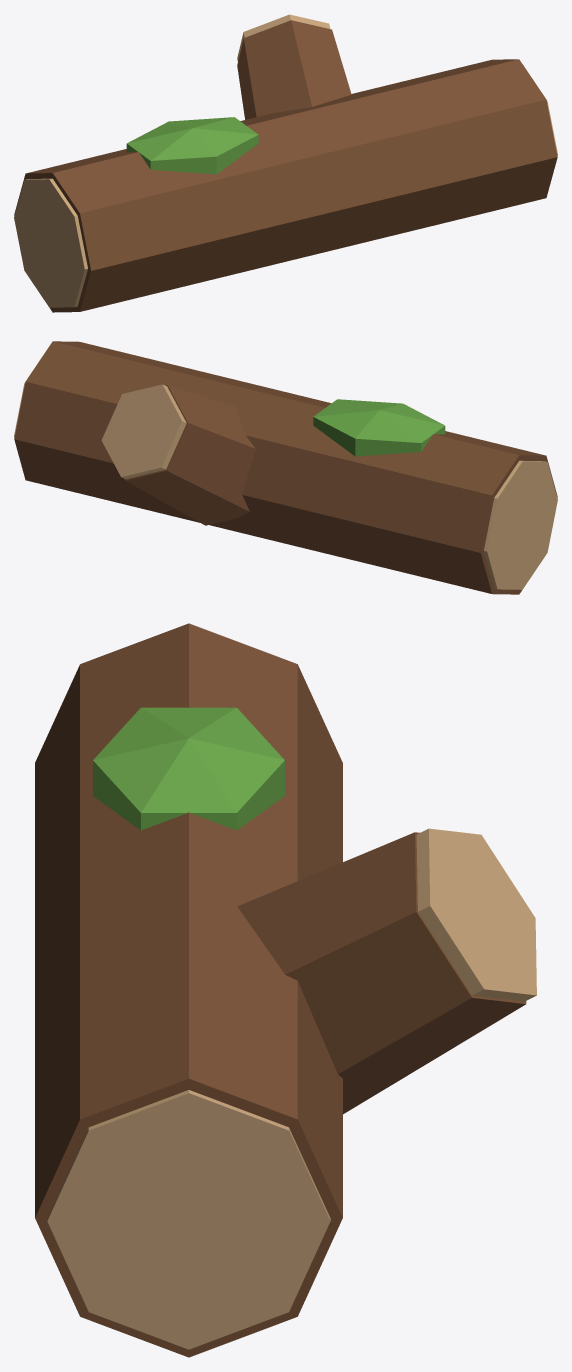
Rendered from wood_log_b.fbx.
3 views of the same model, one above another, from view 1: azimuth 30°, elevation 25°; view 2: azimuth 150°, elevation 25°; view 3: azimuth 270°, elevation 25° (orthographic). The views are drawn at different scales.
Visible parts, largest first — view 1: wood_log_b__bark, wood_log_b__wood_end, wood_log_b__moss; view 2: wood_log_b__bark, wood_log_b__wood_end, wood_log_b__moss; view 3: wood_log_b__bark, wood_log_b__wood_end, wood_log_b__moss.
Boxes of the visible parts, x1,y1,x2,y2 form: wood_log_b__bark: [14, 20, 557, 312]; wood_log_b__wood_end: [14, 14, 557, 307]; wood_log_b__moss: [126, 117, 258, 174]; wood_log_b__bark: [14, 341, 557, 594]; wood_log_b__wood_end: [14, 356, 557, 589]; wood_log_b__moss: [313, 399, 445, 456]; wood_log_b__bark: [35, 623, 526, 1357]; wood_log_b__wood_end: [47, 828, 536, 1349]; wood_log_b__moss: [93, 707, 284, 830].
Size of the model in its own units: 355 by 130 by 163.
